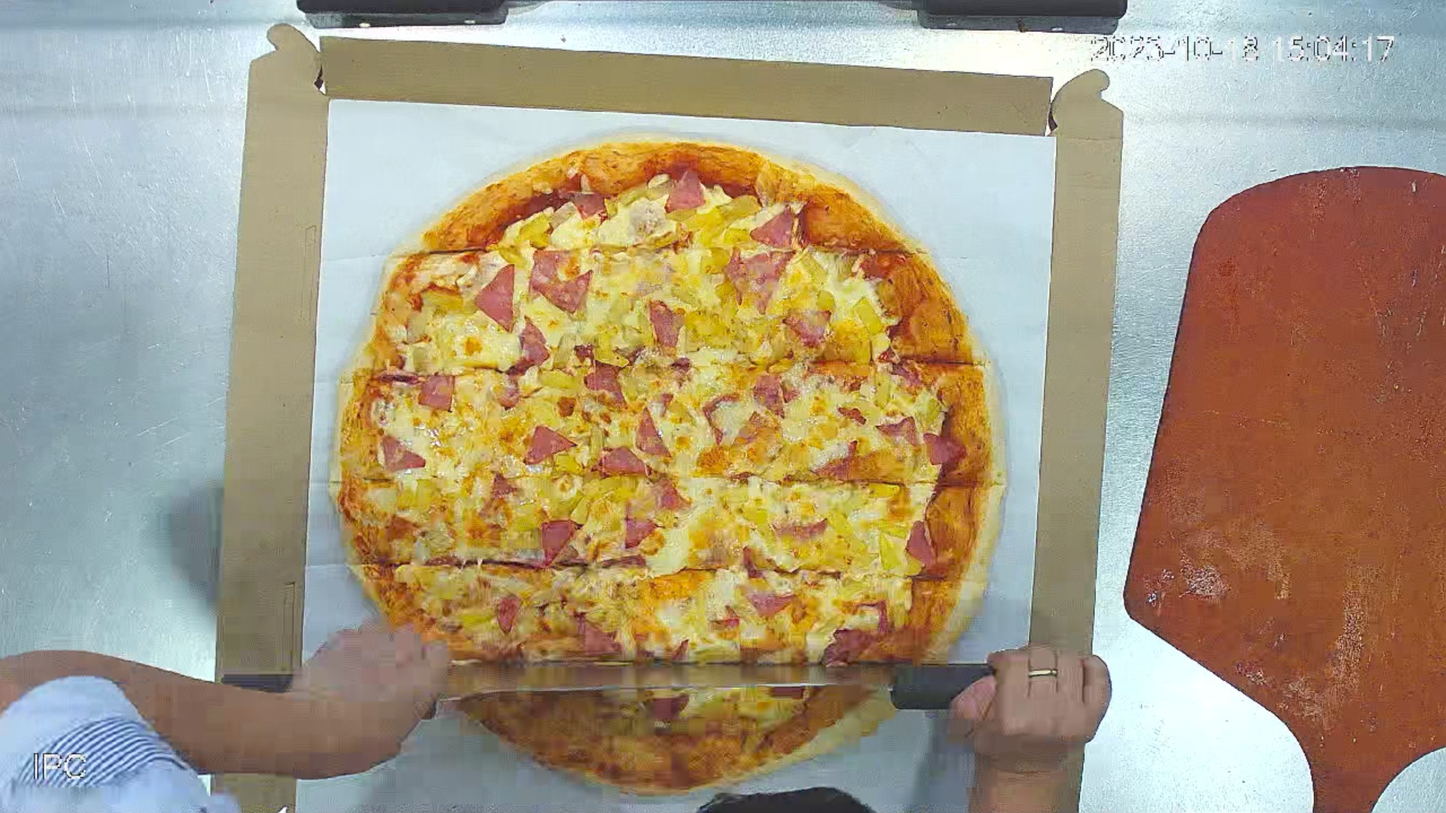hawaiian: (321, 130, 1013, 799)
